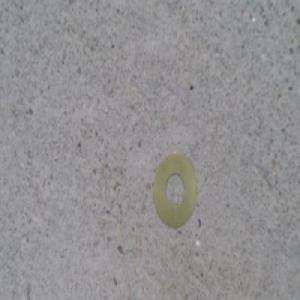Washer: (151, 147, 196, 227)
